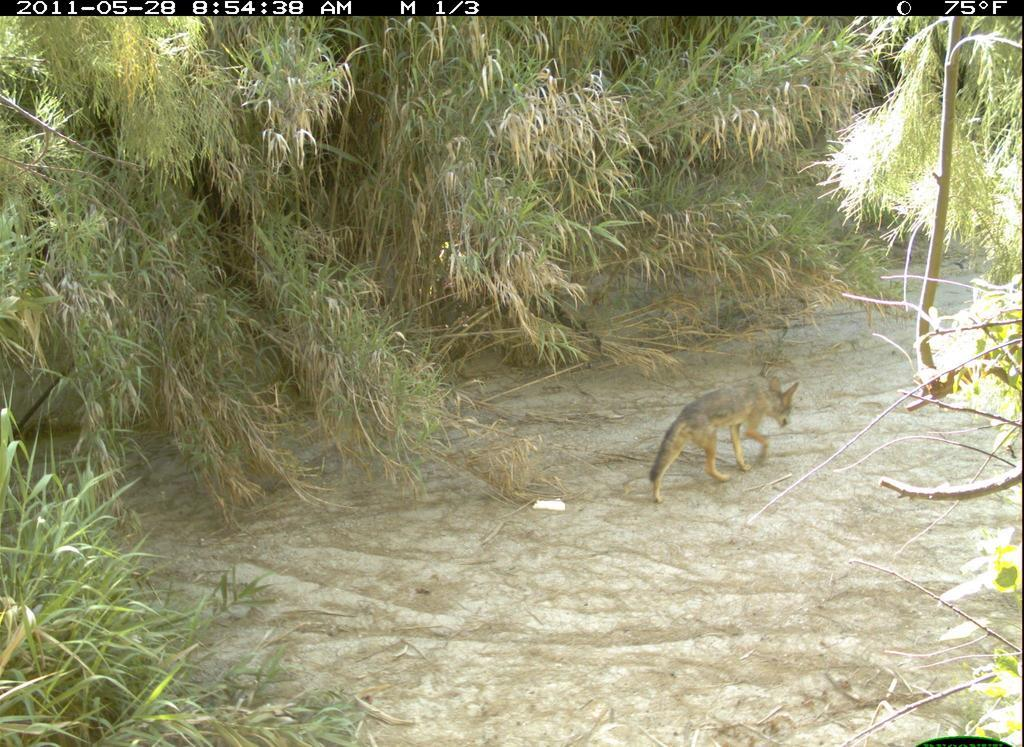coyote: (637, 365, 813, 514)
